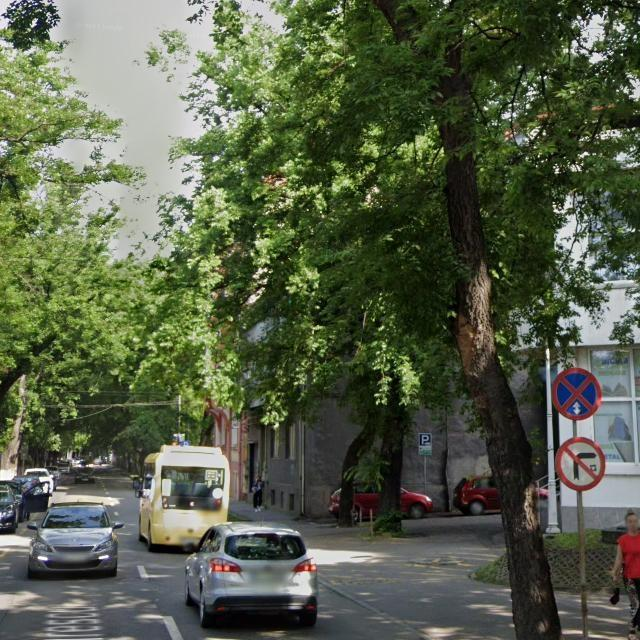forb_waiting: (551, 367, 602, 420)
